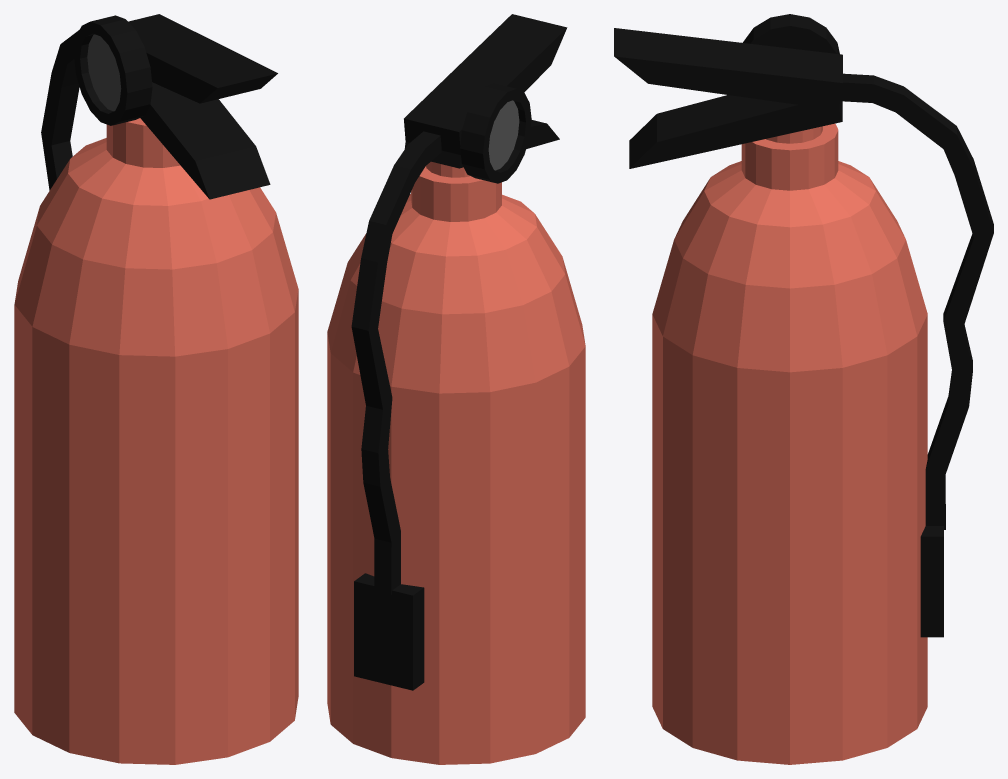
File: fire-extinguisher.fbx
3 views of the same model, side by side, from view 1: azimuth 30°, elevation 25°; view 2: azimuth 150°, elevation 25°; view 3: azimuth 270°, elevation 25° (orthographic). The views are drawn at different scales.
Parts seen in each view (by area): view 1: Cylinder, Cube, Cylinder.001, Cube.001; view 2: Cylinder, Cube.001, Cylinder.001, Cube; view 3: Cylinder, Cube, Cube.001, Cylinder.001.
Part boxes in pixels (<box>): Cylinder: <box>14,118,298,764</box>; Cube: <box>128,14,277,199</box>; Cylinder.001: <box>74,15,152,125</box>; Cube.001: <box>41,30,79,190</box>; Cylinder: <box>327,161,585,764</box>; Cube.001: <box>351,131,441,594</box>; Cylinder.001: <box>354,83,531,690</box>; Cube: <box>404,14,567,168</box>; Cylinder: <box>652,123,927,764</box>; Cube: <box>614,28,842,168</box>; Cube.001: <box>840,73,993,529</box>; Cylinder.001: <box>742,14,943,637</box>.
Size of the model in its own units: 2 by 5.34 by 2.76.
